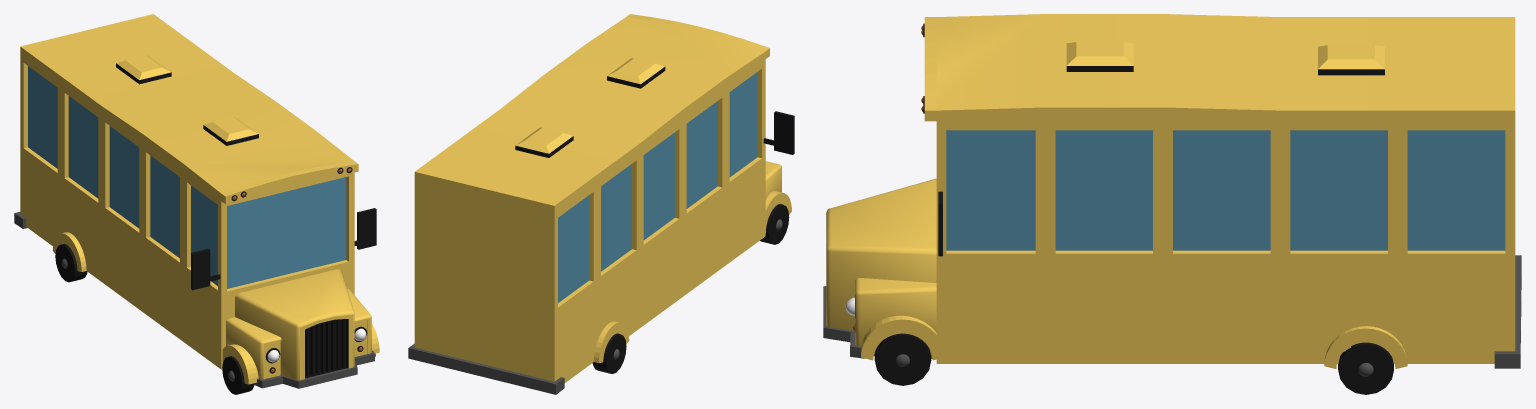
File: b79bb5fb-28e1-43cb-b821-75a7dcecd89c.glb
3 views of the same model, side by side, from view 1: azimuth 30°, elevation 25°; view 2: azimuth 150°, elevation 25°; view 3: azimuth 270°, elevation 25° (orthographic). The views are drawn at different scales.
Visible parts, largest first — view 1: Box001; view 2: Box001; view 3: Box001.
Boxes of the visible parts, x1,y1,x2,y2 form: Box001: (14, 14, 379, 394); Box001: (408, 14, 794, 394); Box001: (823, 14, 1521, 394).
Size of the model in its own units: 30.83 by 32.88 by 70.47.
